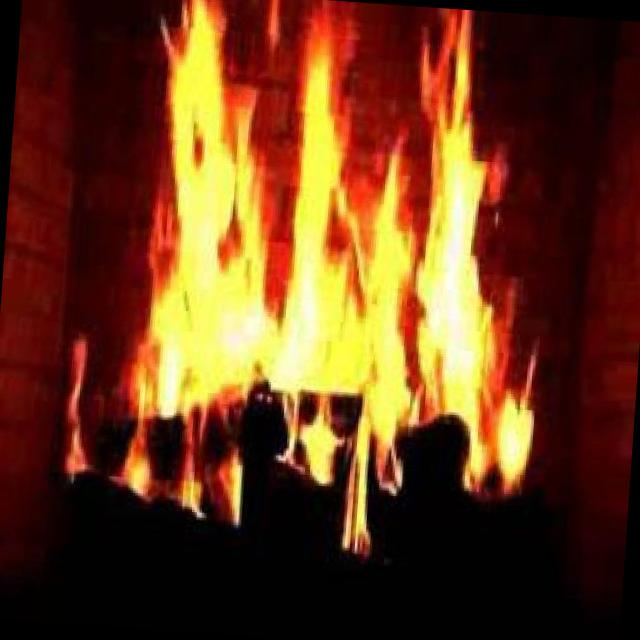Fire: (37, 0, 581, 579)
